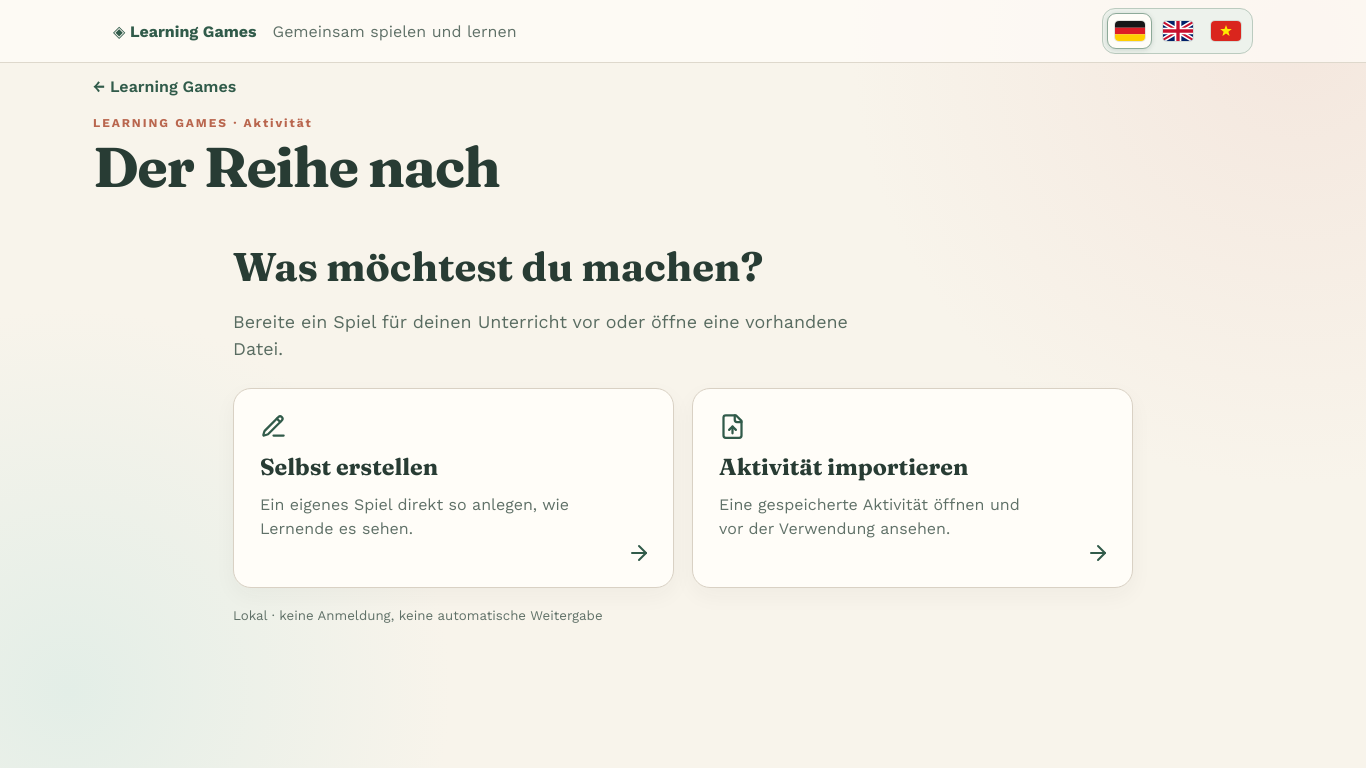
Test: Sequence guided authoring › opens the editable steps only after the teacher chooses create
The image size is (1366, 768).
Check: the field labelled "Schritt 1" is not shown
Click the button "Selbst erstellen" at (349, 467), box [233,388,674,588]
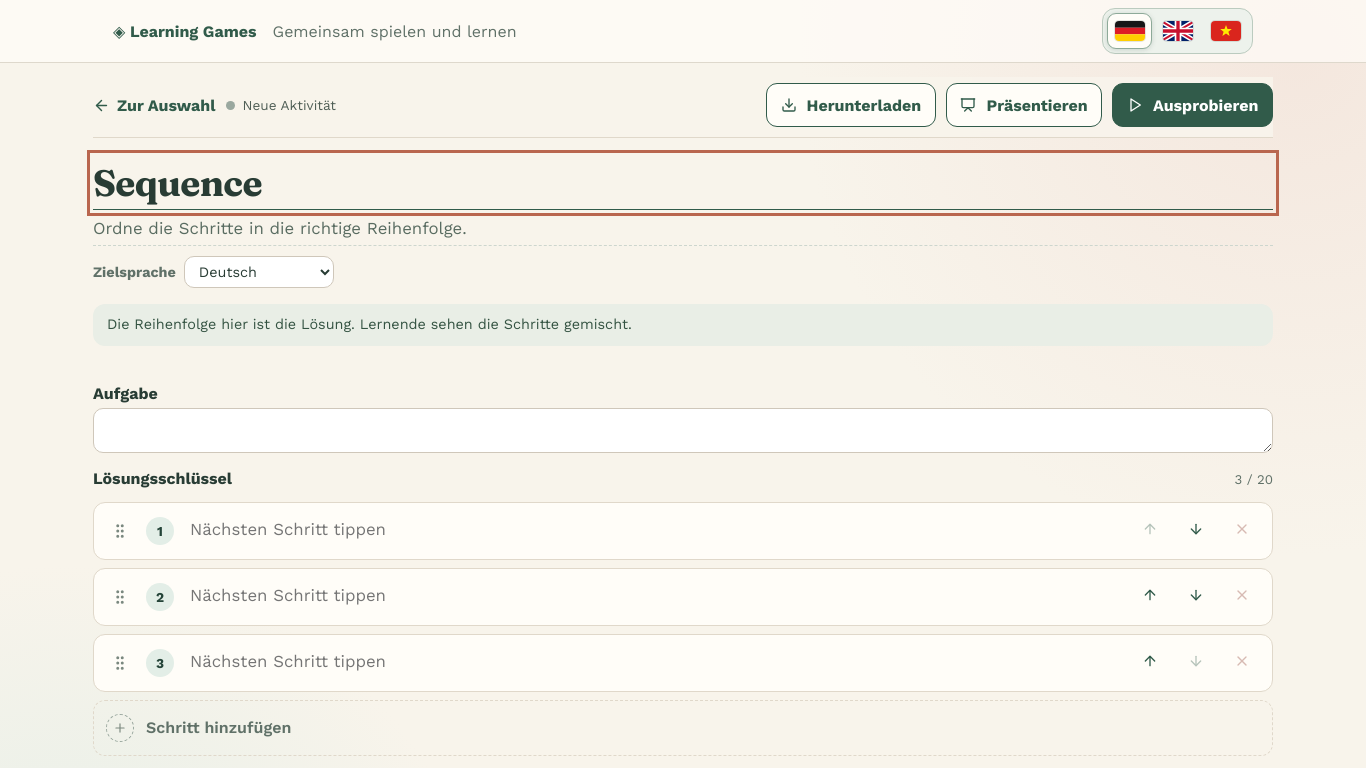
Check: the text box named "Schritt 1" is shown, box [186,510,1116,551]
